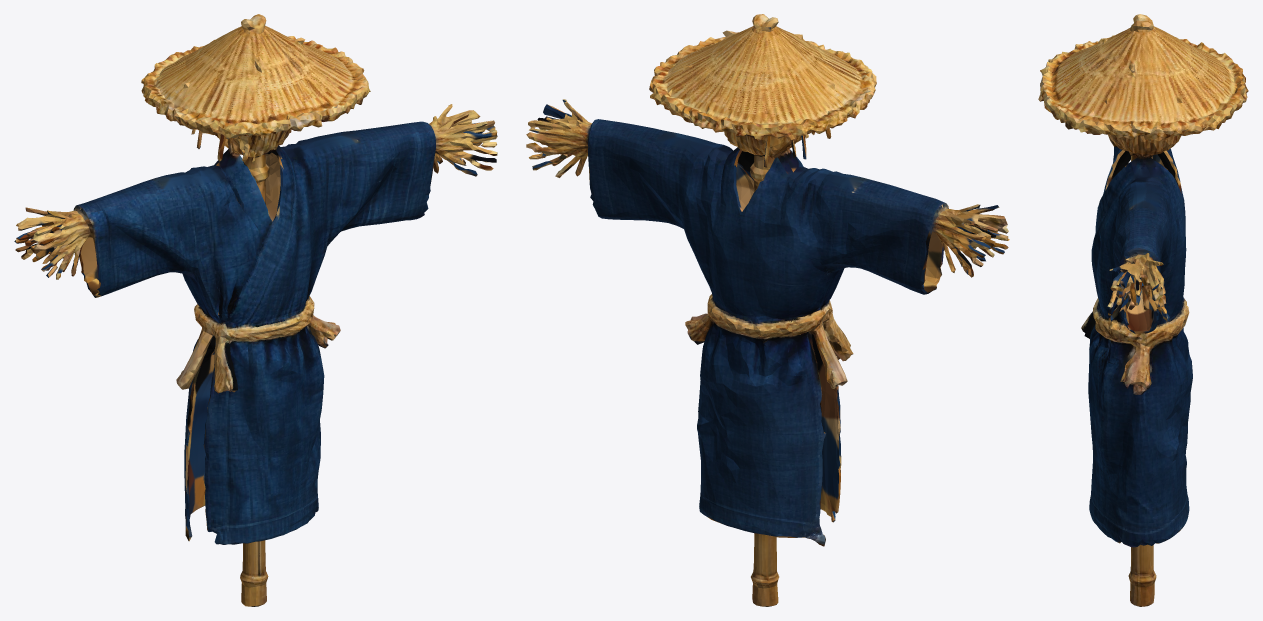
Rendered from traveler_env_coast_cakon_indigo_kakashi_00001_.glb.
The picture shows the model from 3 angles, left to right: view 1: azimuth 30°, elevation 25°; view 2: azimuth 150°, elevation 25°; view 3: azimuth 270°, elevation 25°; orthographic projection.
Parts seen in each view (by area): view 1: temp_mesh.ply; view 2: temp_mesh.ply; view 3: temp_mesh.ply.
Boxes of the visible parts, box(x1,y1,x2,y2) form: temp_mesh.ply: box(14, 14, 497, 606); temp_mesh.ply: box(526, 14, 1009, 606); temp_mesh.ply: box(1038, 14, 1248, 606).
Bounding box in the file's own units: 1.64 × 1.97 × 0.6444.
1 material, 1 textured.
